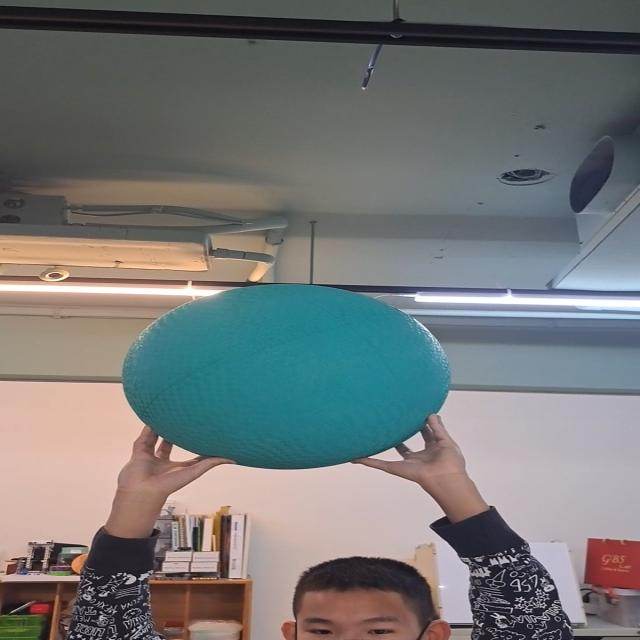ALGAE: (122, 283, 451, 469)
